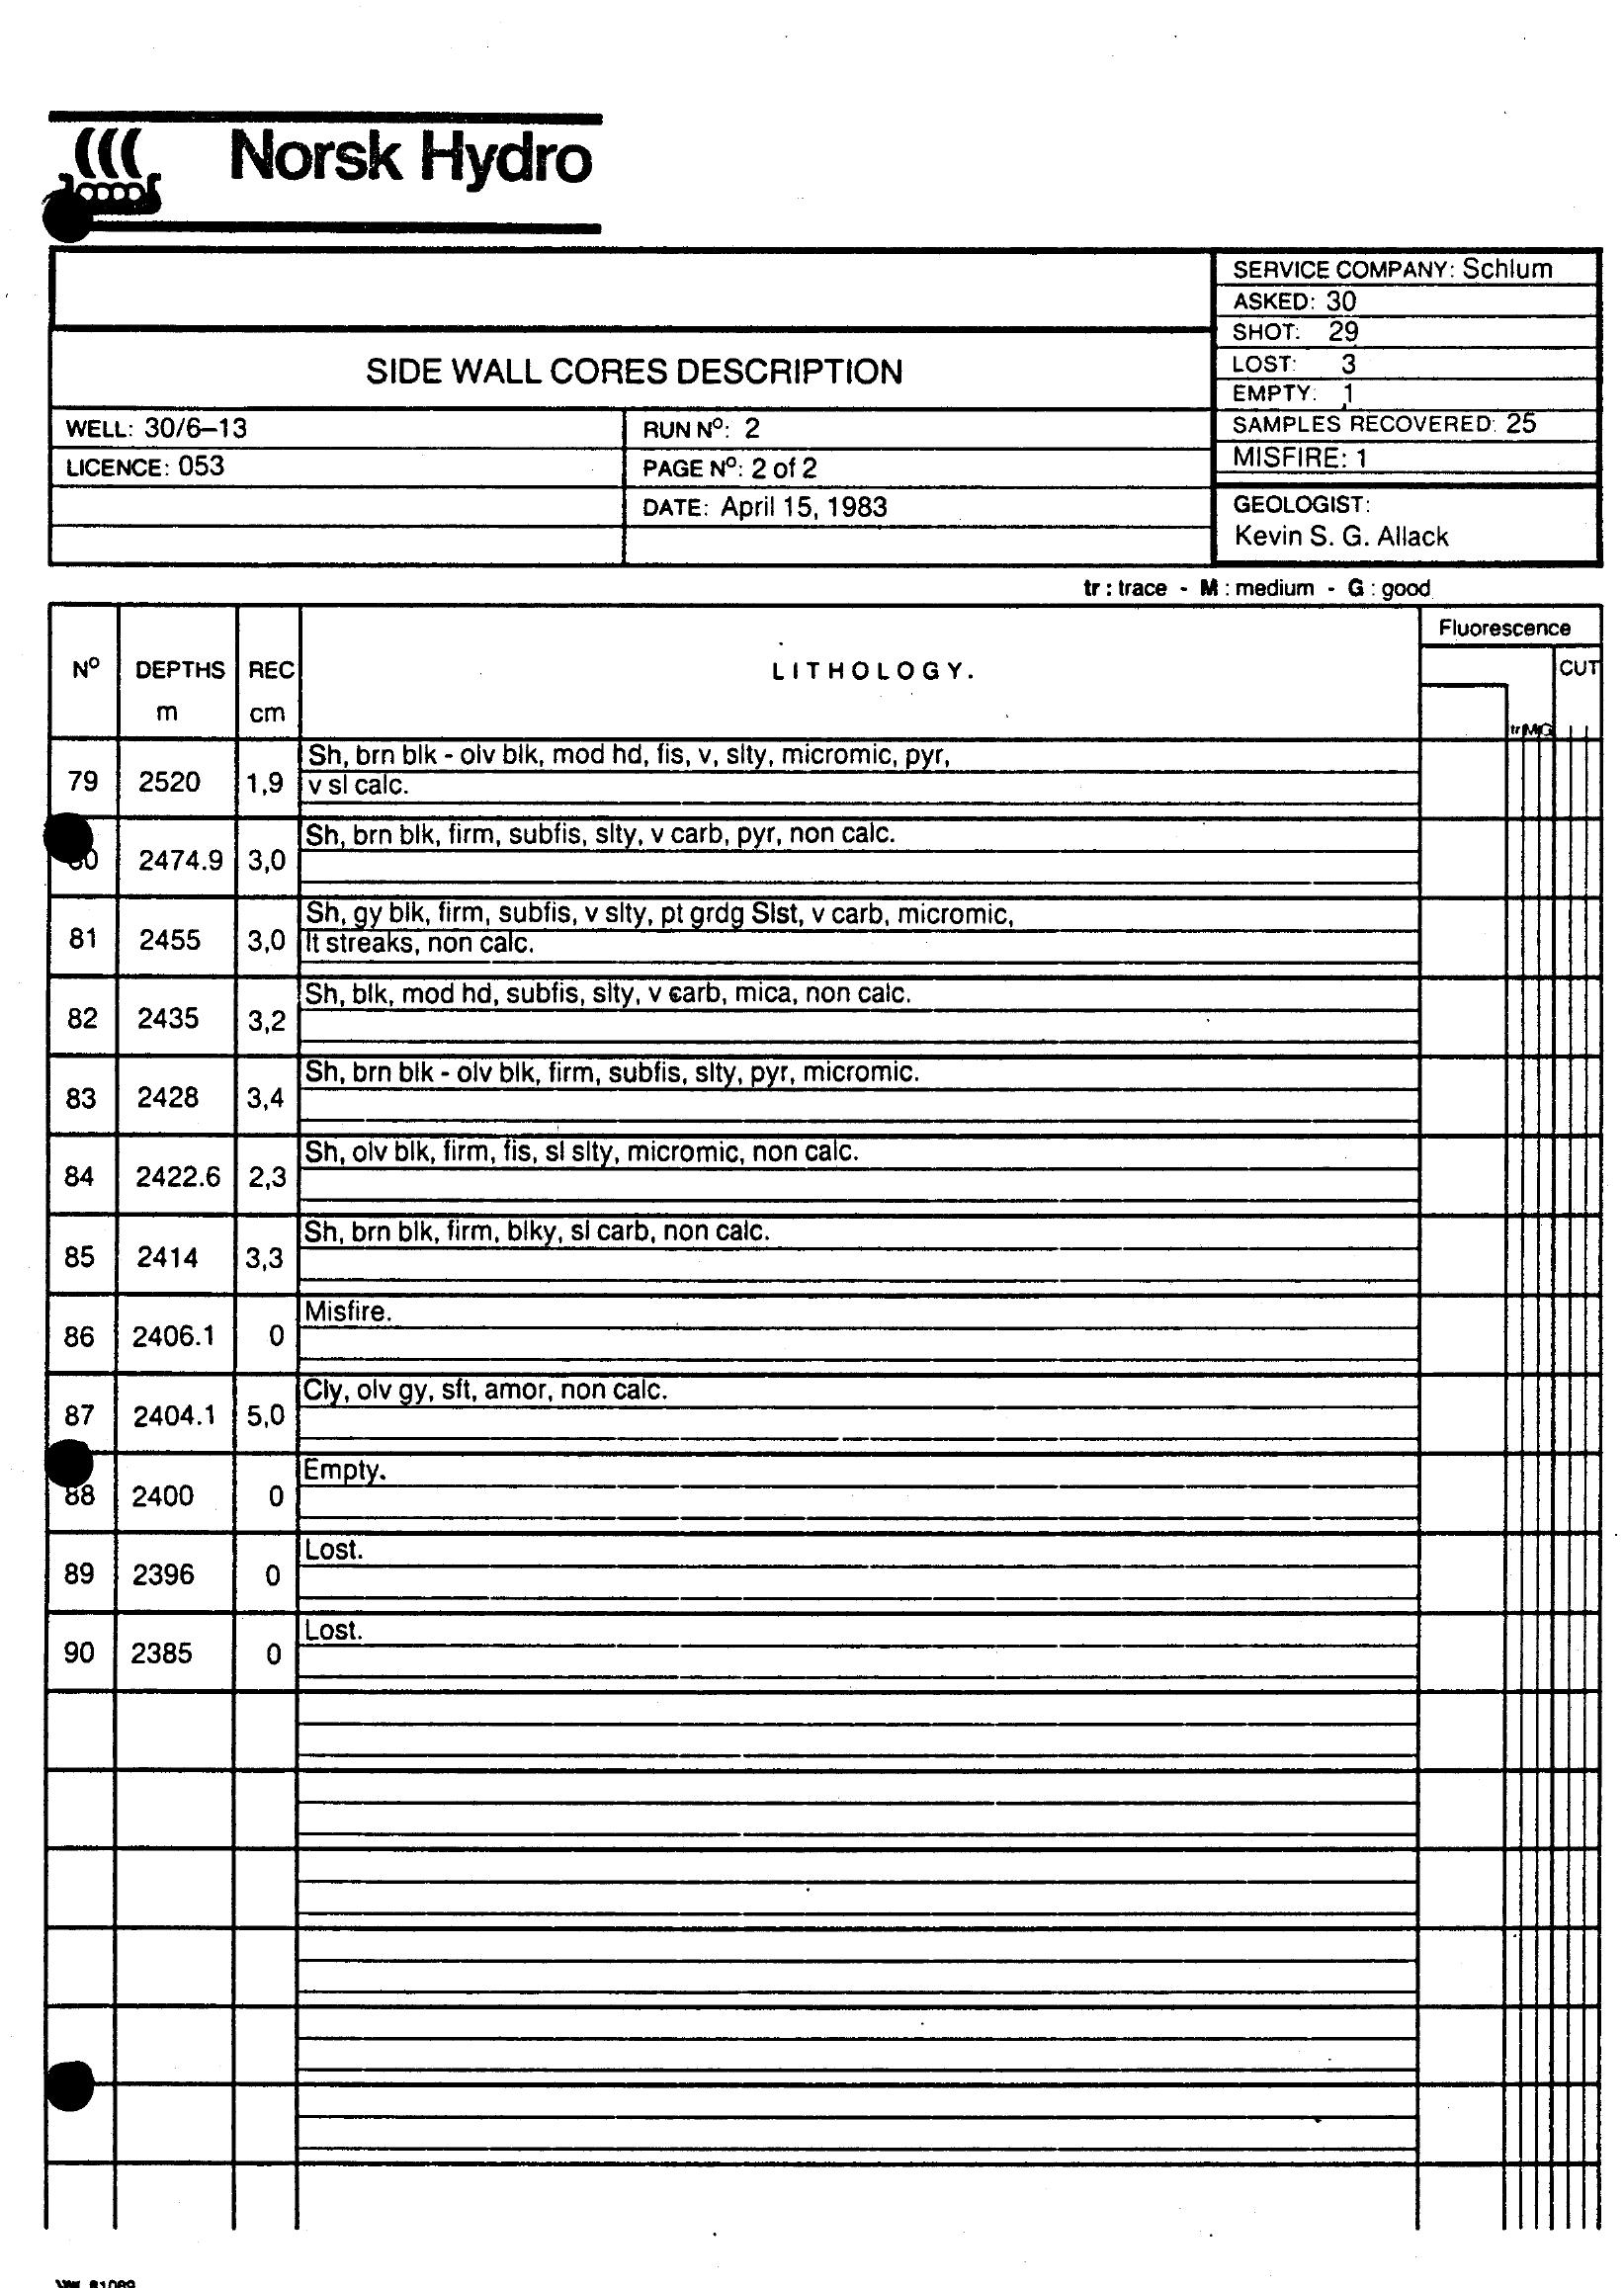table: (30, 583, 1624, 1703)
undefined: (19, 93, 656, 244)
